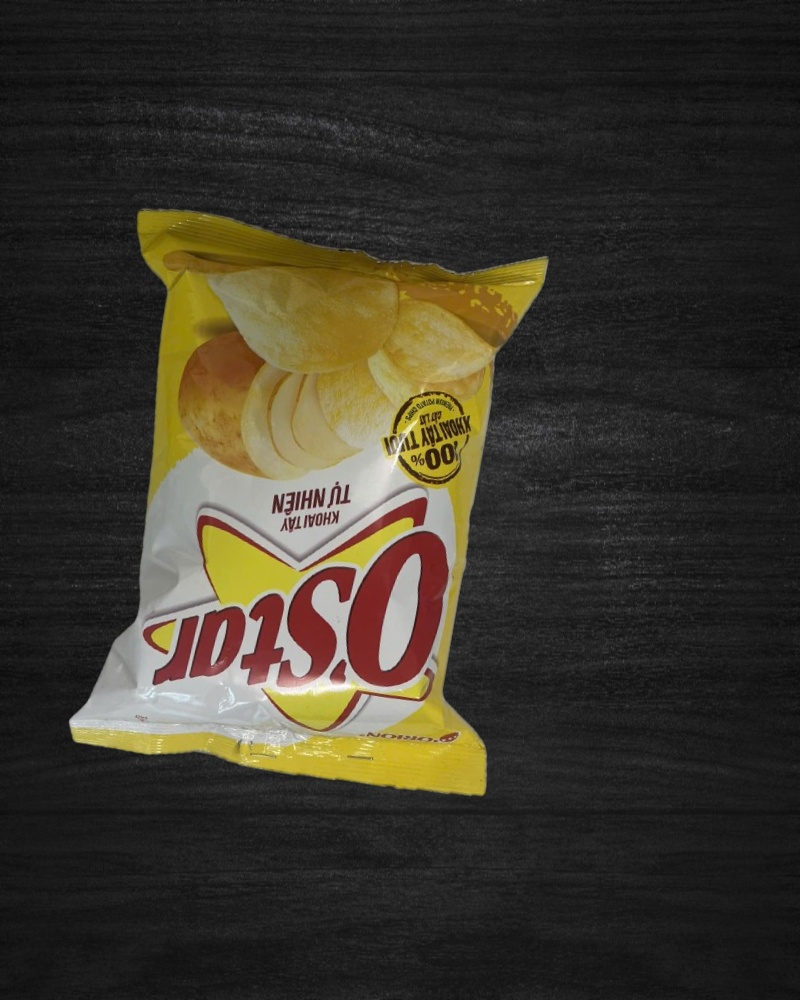Snack cua: (52, 193, 576, 808)
